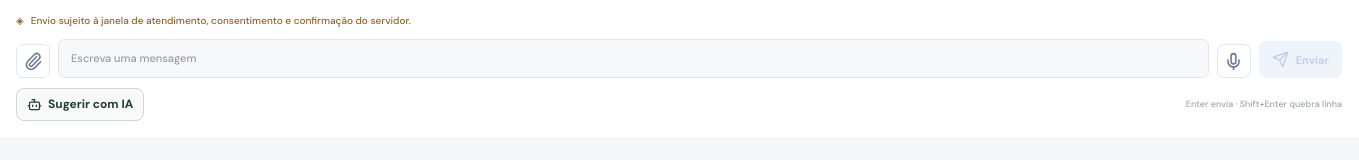
Test: coloca a sugestão da IA no rascunho para revisão
This screenshot has width=1359, height=160.
Click the button "Sugerir com IA". click: (80, 105)
box: [16,88,144,121]
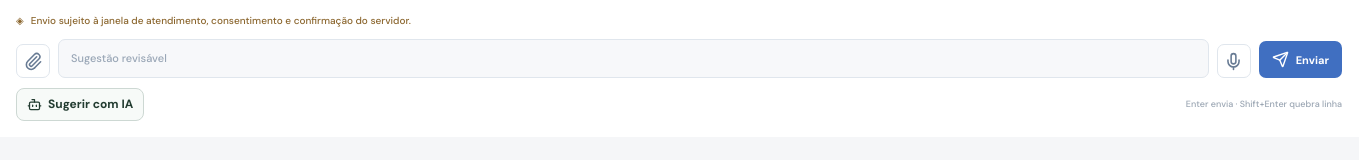
Check: the text box showing "Sugestão revisável" is shown, box [58,39,1209,78]
